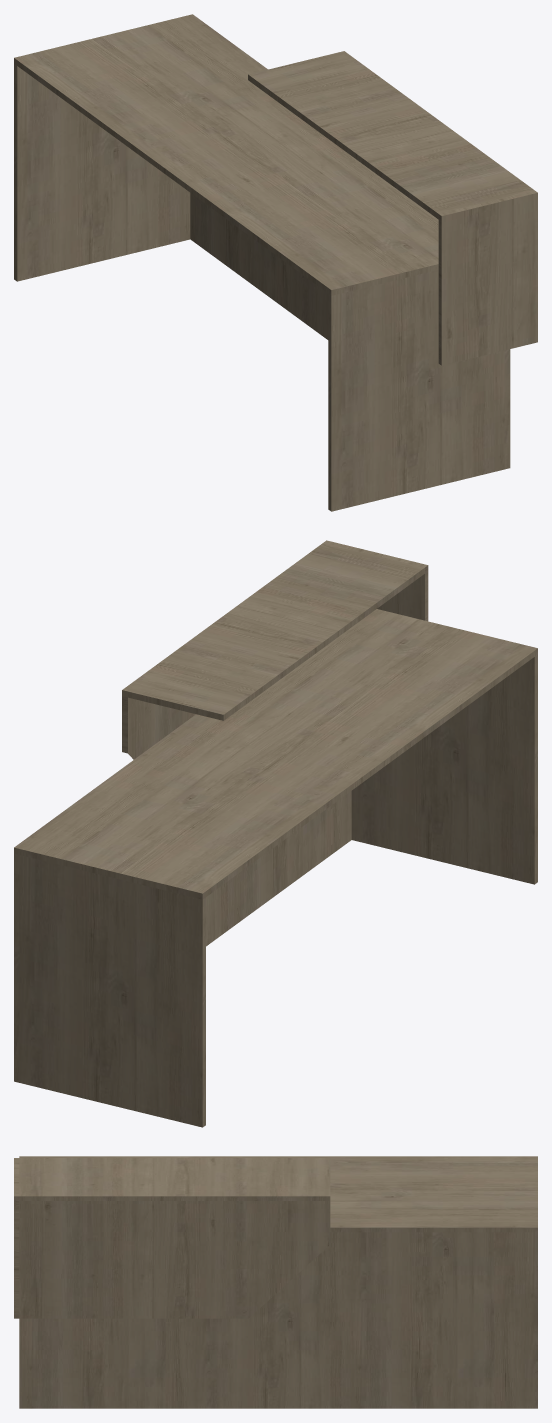
File: res3.glb
3 renders of one model, top to bottom at view 1: azimuth 30°, elevation 25°; view 2: azimuth 150°, elevation 25°; view 3: azimuth 270°, elevation 25°, orthographic. The views are drawn at different scales.
Parts seen in each view (by area): view 1: Box044, Box042, Box043, Box045, Box048, Box041; view 2: Box044, Box043, Box042, Box045, Box041, Box047, Box048; view 3: Box041, Box047, Box044, Box045, Box048.
Boxes of the visible parts, x1=… form: Box044: x1=14, y1=14, x2=438, y2=295; Box042: x1=328, y1=270, x2=504, y2=511; Box043: x1=14, y1=64, x2=190, y2=281; Box045: x1=248, y1=51, x2=534, y2=219; Box048: x1=438, y1=190, x2=537, y2=365; Box041: x1=190, y1=193, x2=510, y2=469; Box044: x1=14, y1=609, x2=537, y2=899; Box043: x1=19, y1=855, x2=205, y2=1127; Box042: x1=351, y1=654, x2=537, y2=884; Box045: x1=122, y1=543, x2=424, y2=720; Box041: x1=14, y1=791, x2=351, y2=1082; Box047: x1=122, y1=696, x2=195, y2=759; Box048: x1=323, y1=540, x2=428, y2=621; Box041: x1=19, y1=1232, x2=537, y2=1408; Box047: x1=19, y1=1201, x2=330, y2=1318; Box044: x1=19, y1=1156, x2=537, y2=1232; Box045: x1=19, y1=1158, x2=330, y2=1200; Box048: x1=14, y1=1158, x2=19, y2=1318.
Size of the model in its own units: 0.7396 by 0.9444 by 2.02.
Materials: 1 (1 with a texture image).
